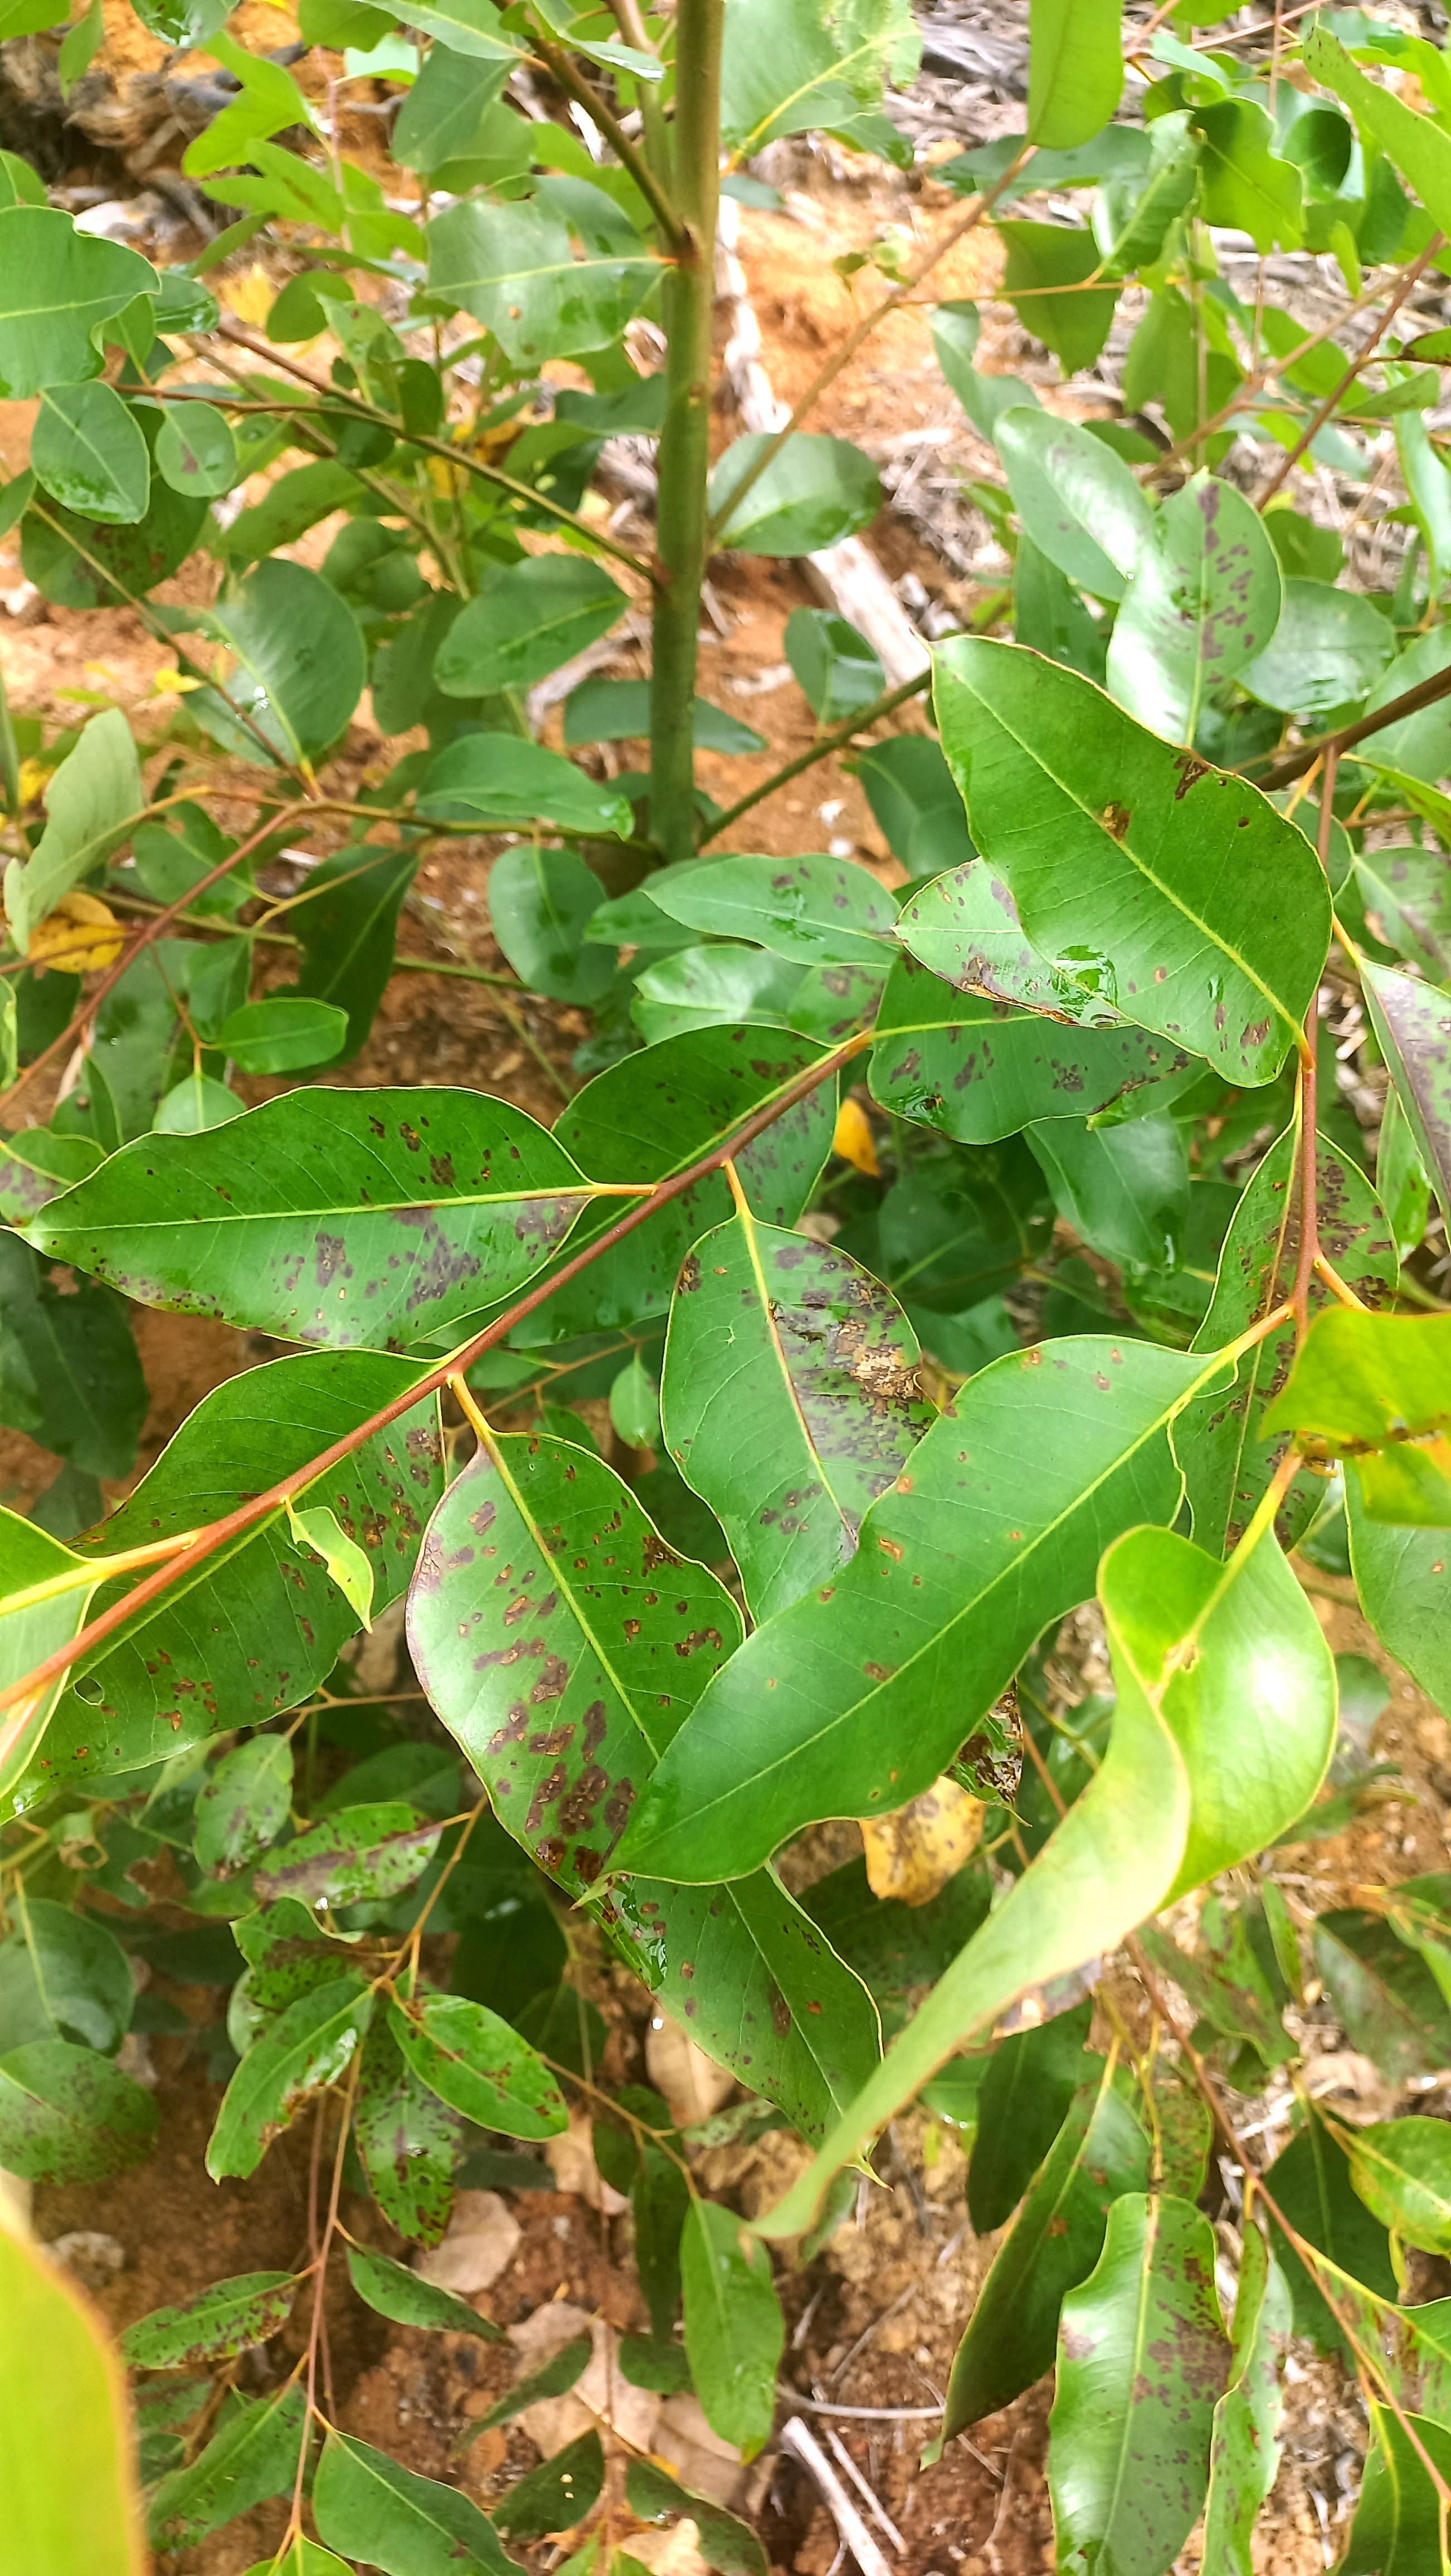Xanthomonas: (411, 1449, 757, 1967), (180, 1173, 589, 1322), (782, 1242, 918, 1486)
